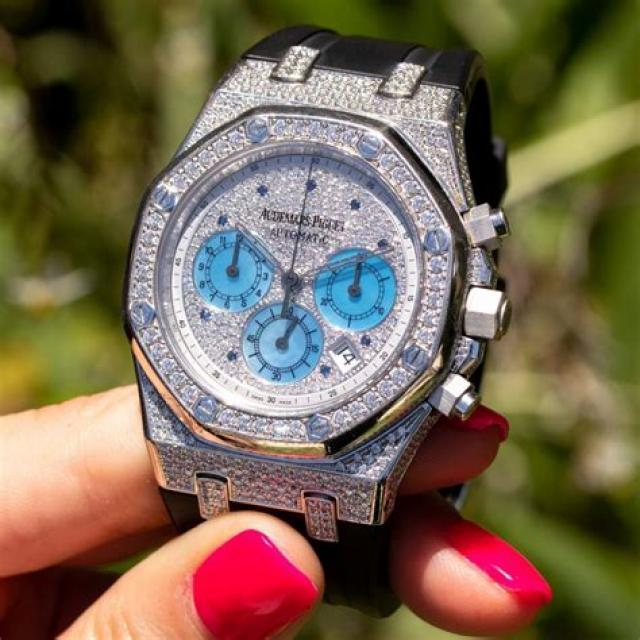Watch: (118, 33, 509, 623)
